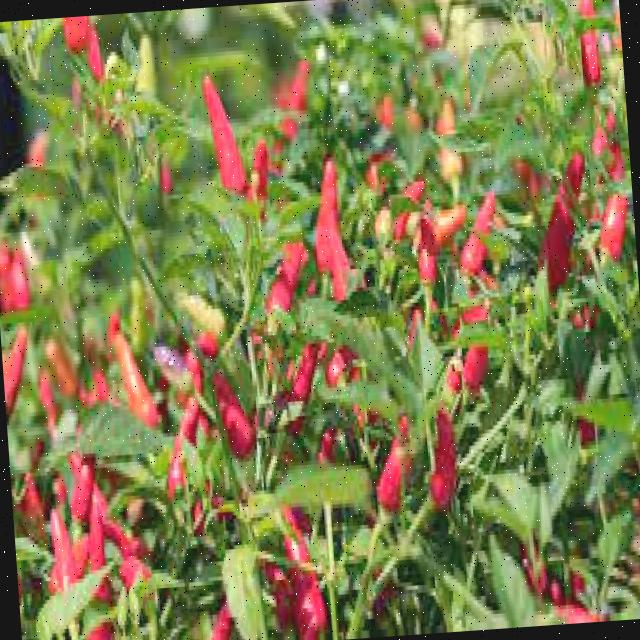healthy: (61, 106, 640, 640)
